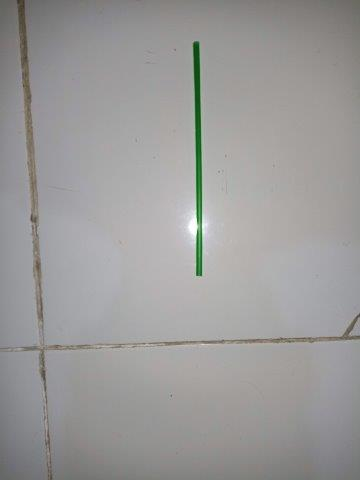sedotan: (193, 41, 202, 276)
